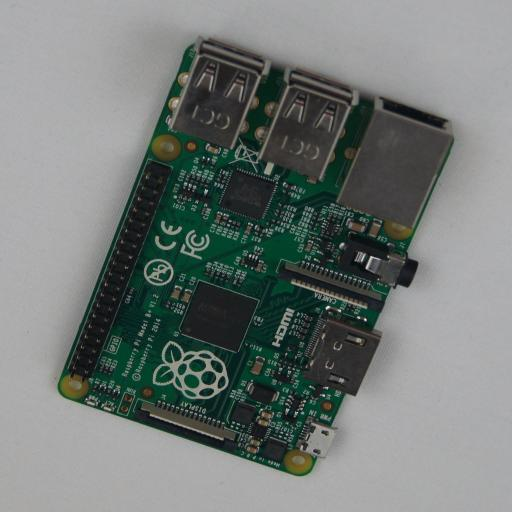Raspberry Pi 1 B-: (58, 38, 454, 476)
